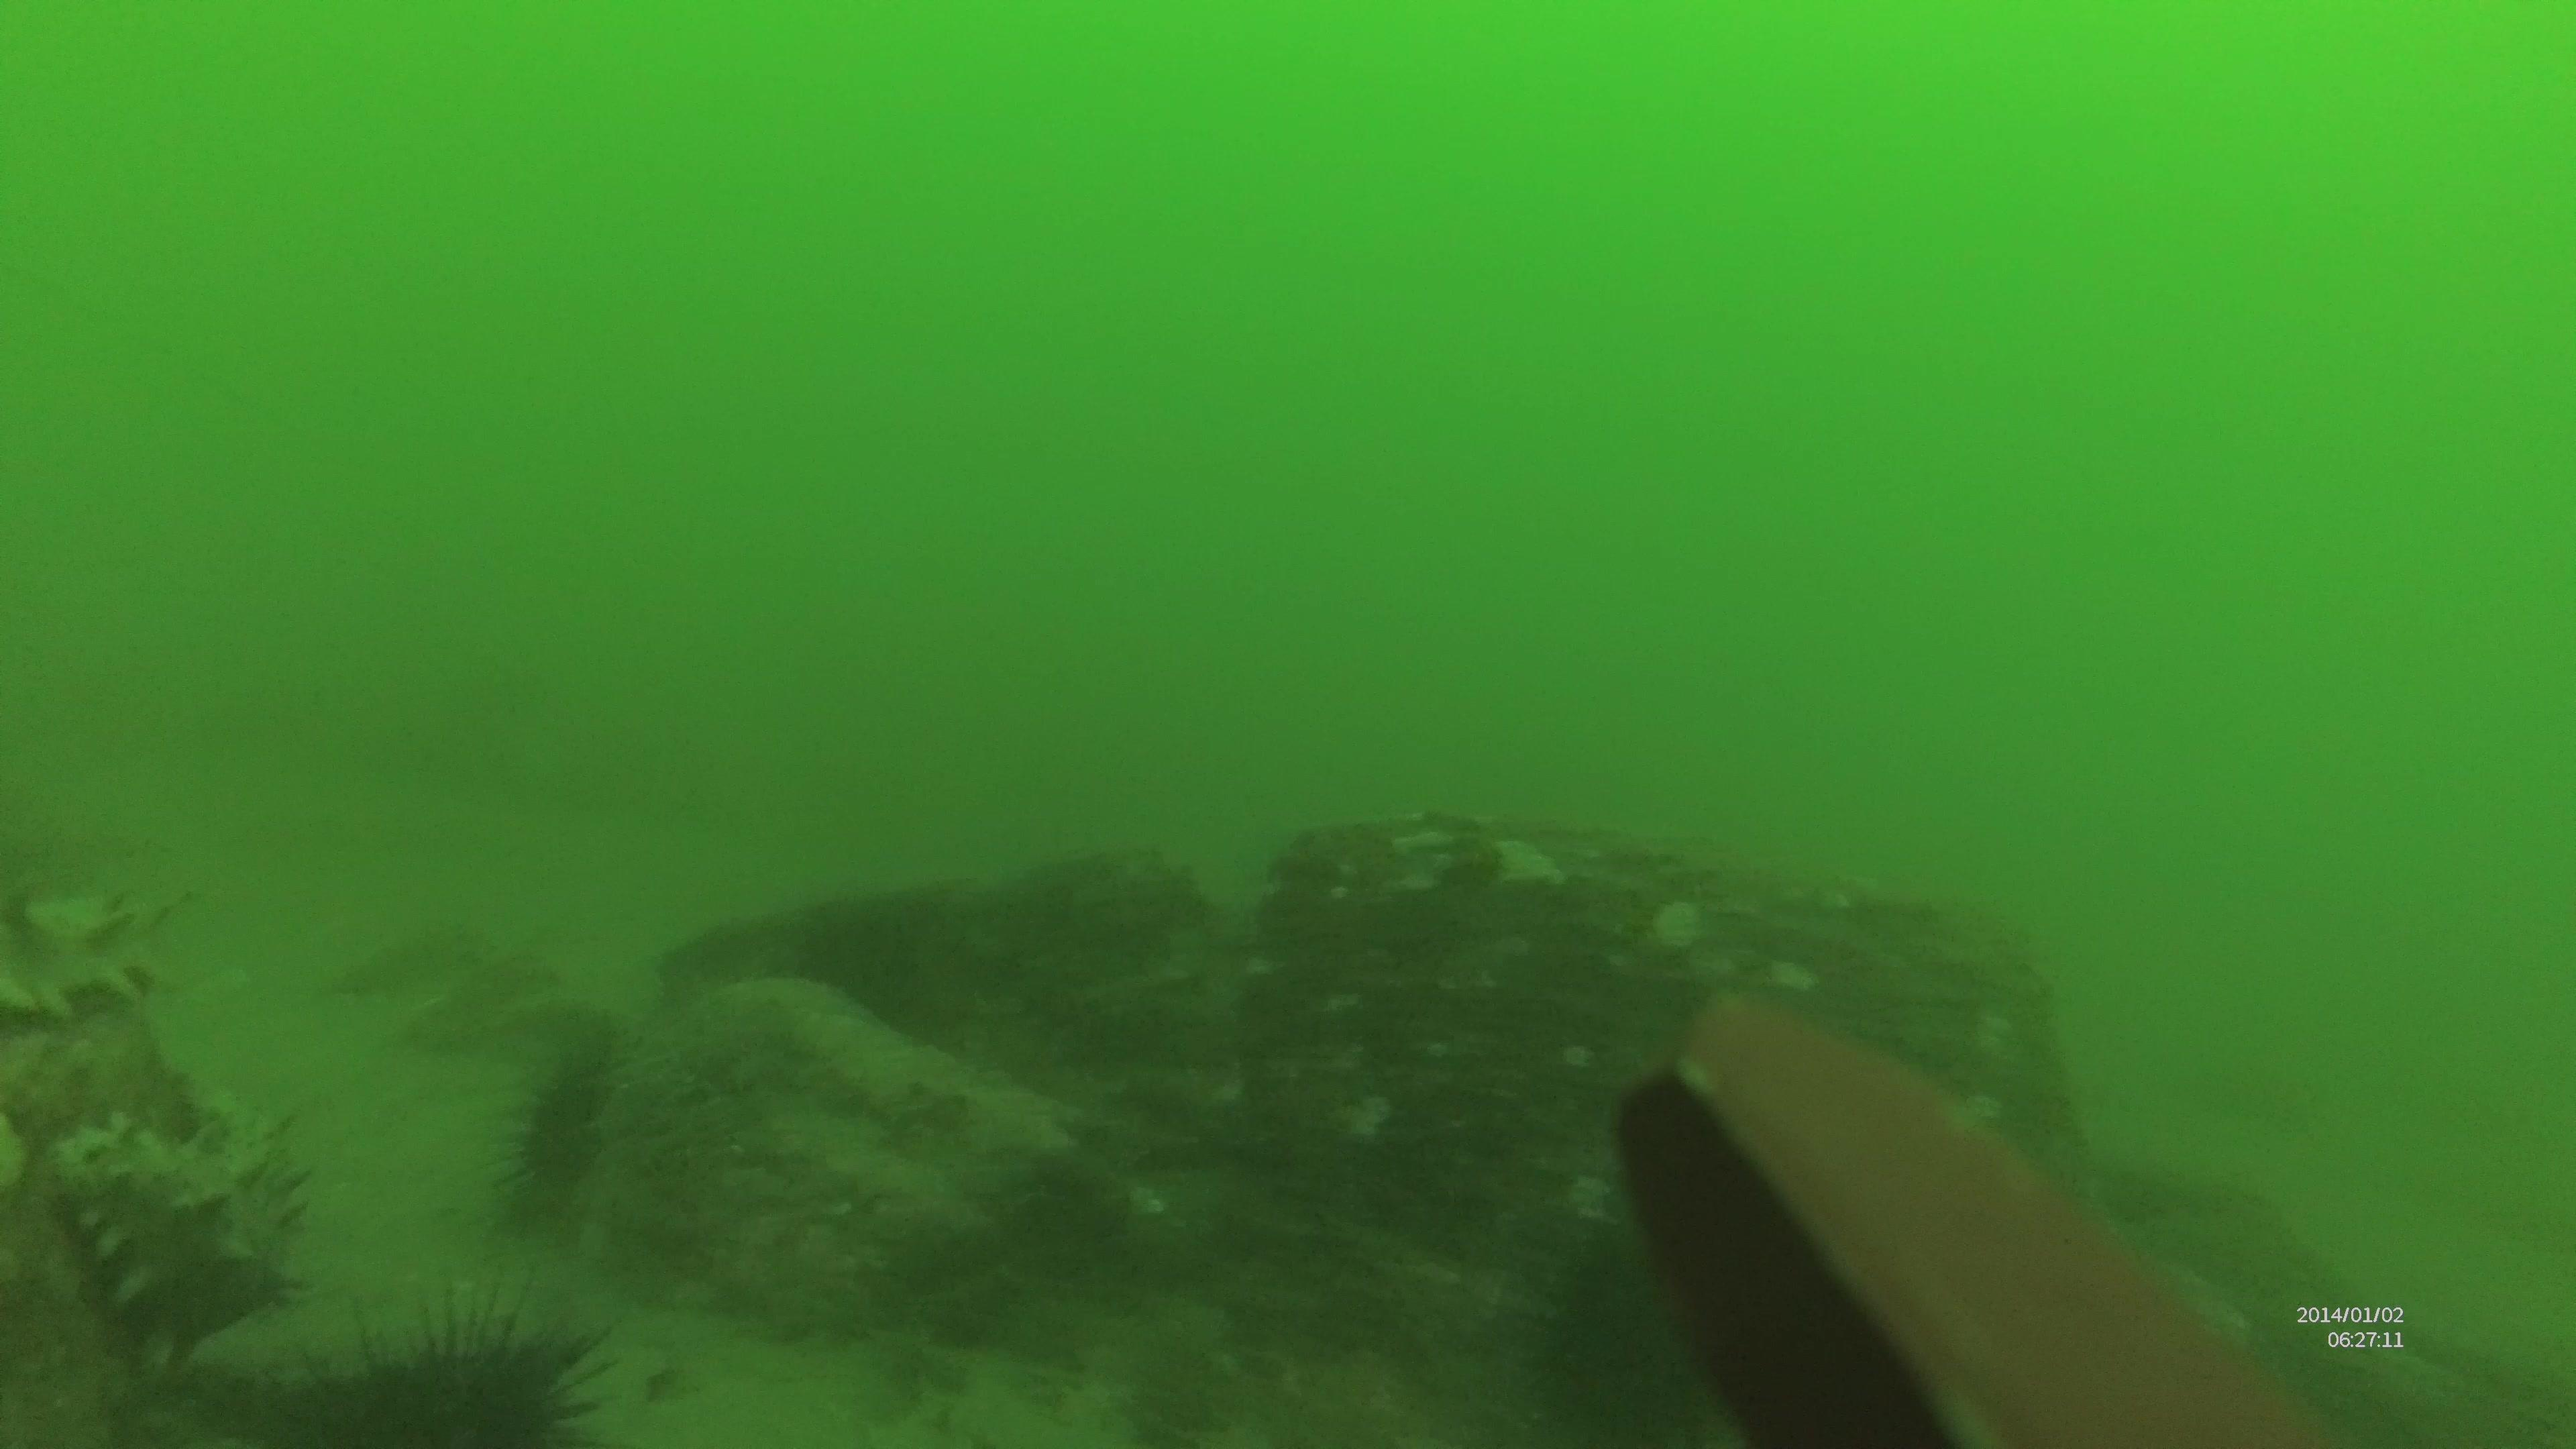echinus: (269, 1254, 632, 1449), (499, 1019, 646, 1212)
holothurian: (53, 1106, 322, 1350), (7, 952, 168, 1024)
